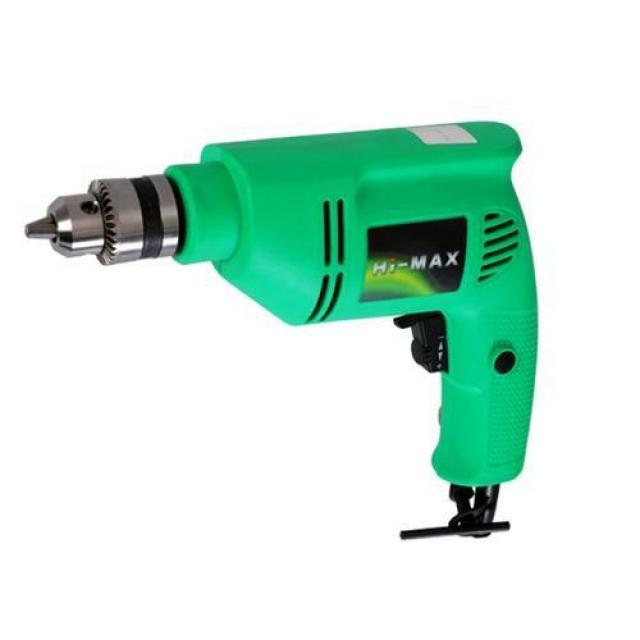drill: (24, 121, 540, 542)
